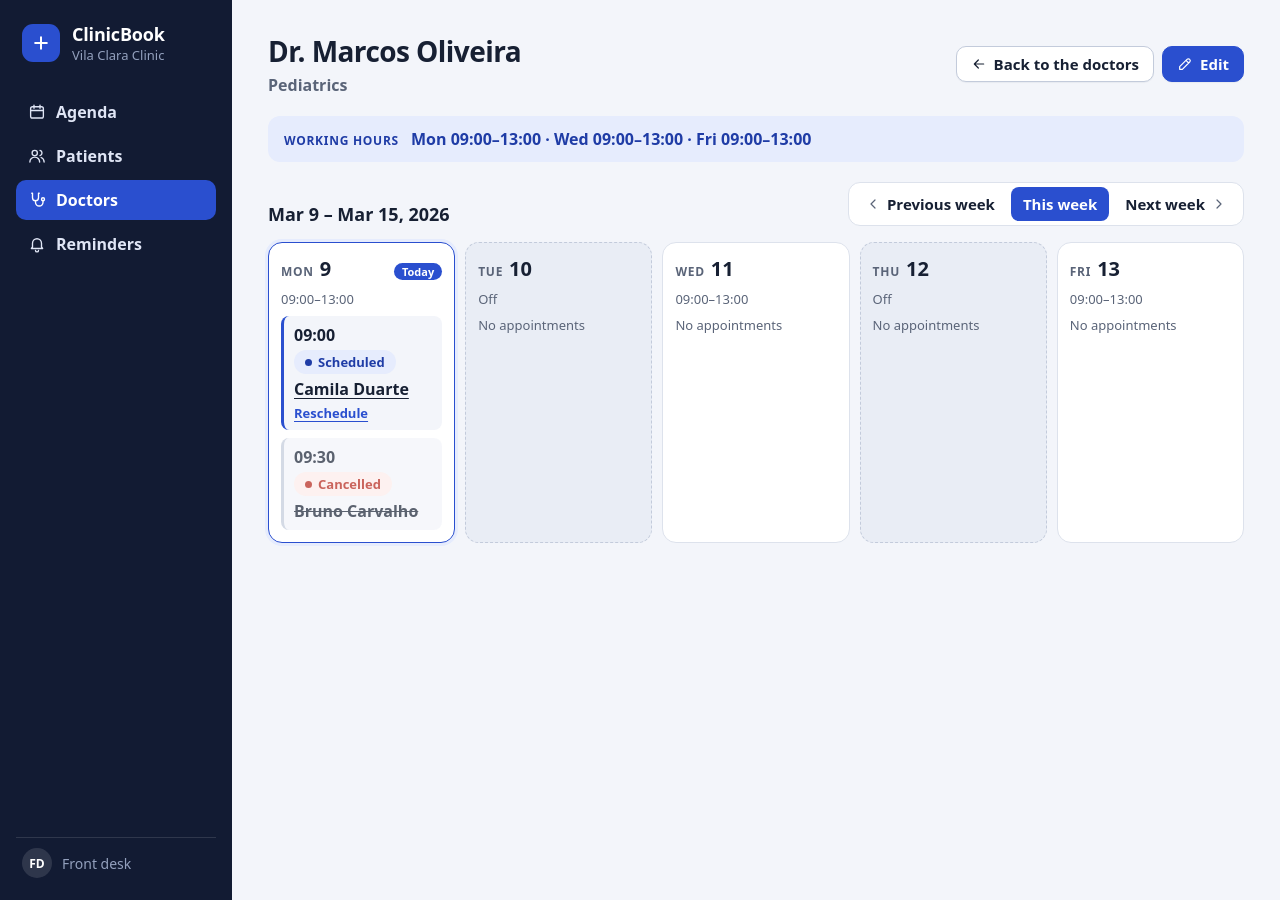
Test case: the doctors › edit the name, the specialty and the hours of a doctor, on a screen of its own
Expected: the navigation bar named "Main" is shown, [16, 92, 216, 264]
Step 1. Click the link "Edit" → (1203, 64), box [1162, 46, 1244, 82]
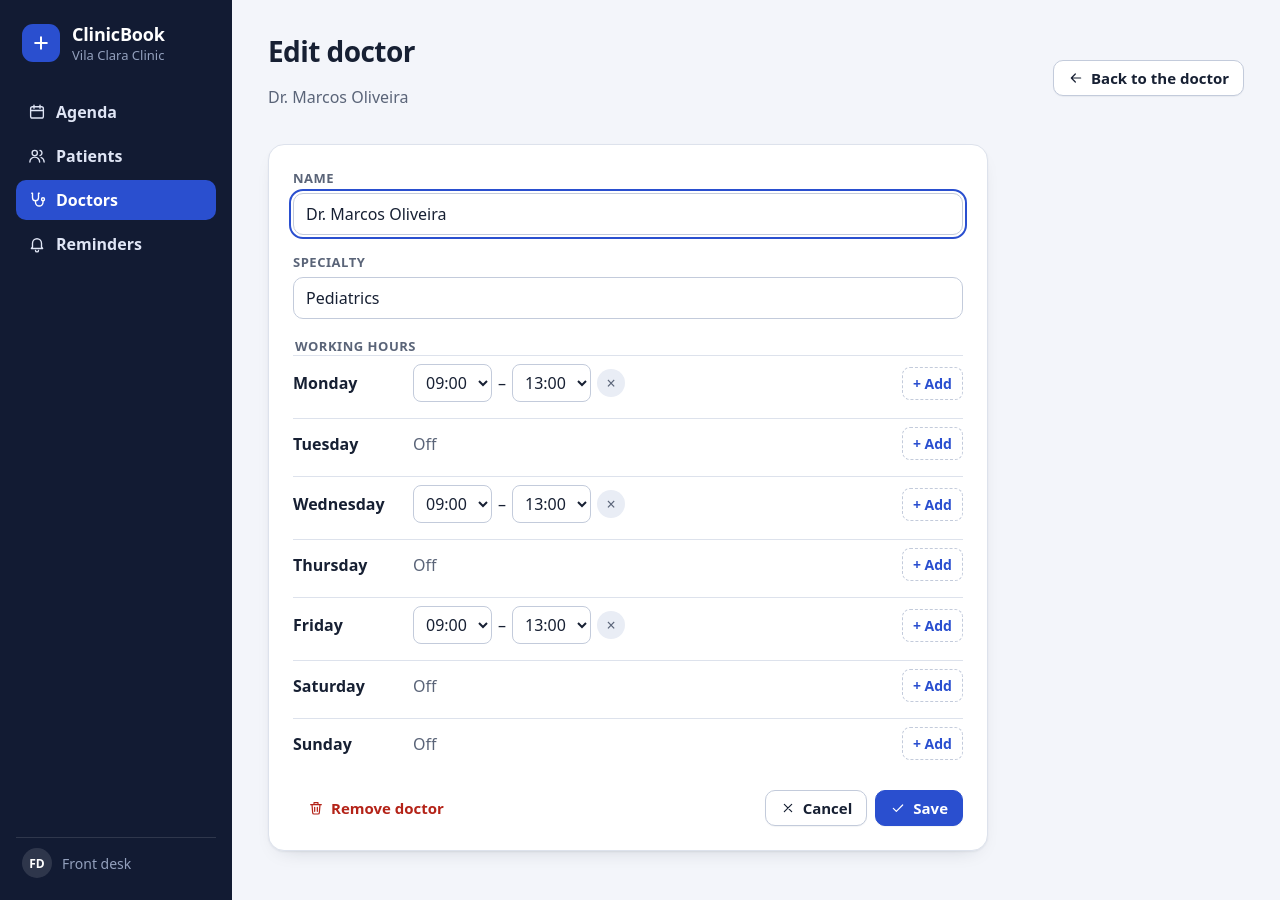
Result: the field labelled "Name" holds "Dr. Marcos Oliveira" at [293, 193, 963, 235]
Step 2. Replace the text in the field labelled "Specialty" with "Pediatrics and allergy" → (628, 298), box [293, 277, 963, 319]
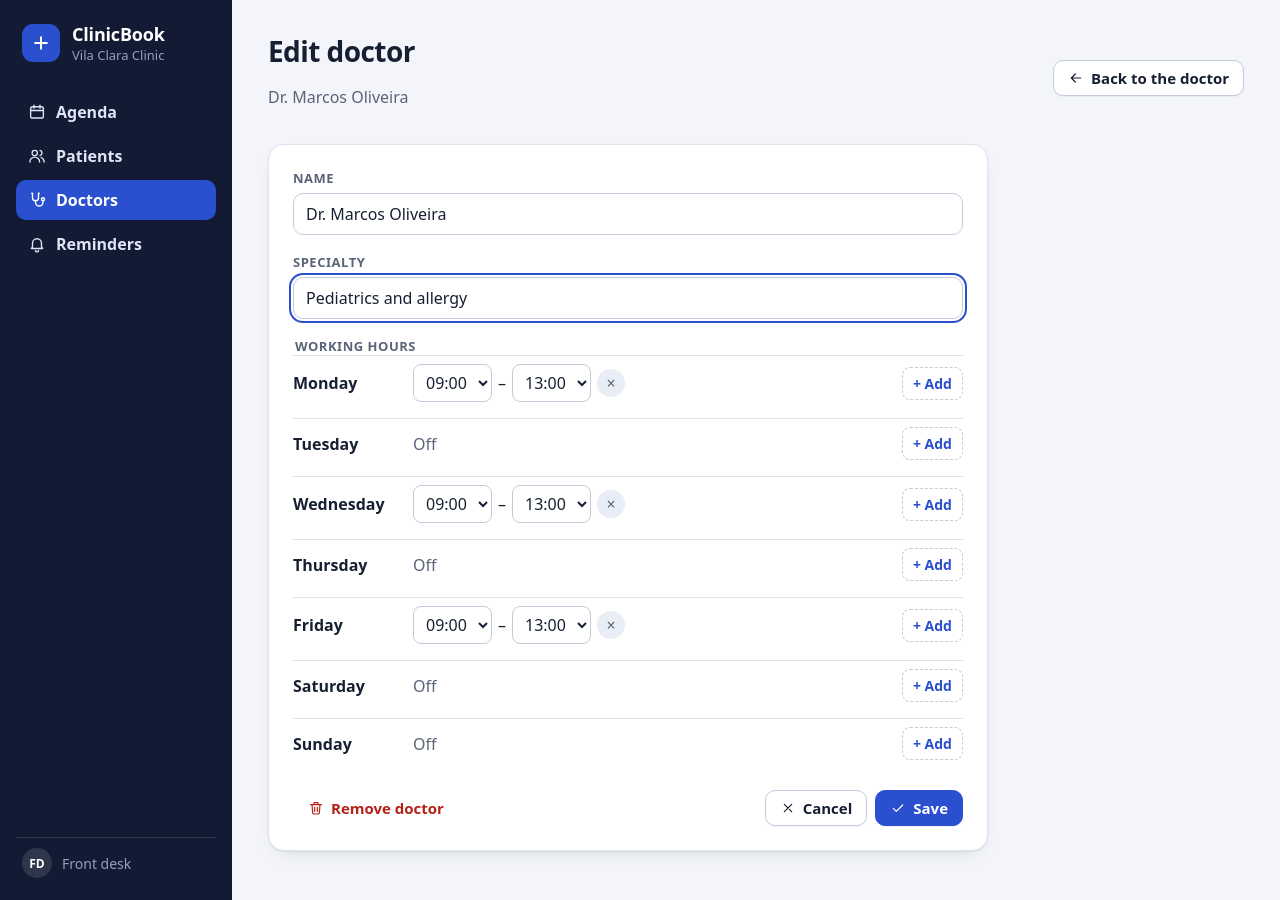
Step 3. Click the button named "Remove Friday, period 1" → (611, 625), box [597, 611, 625, 639]
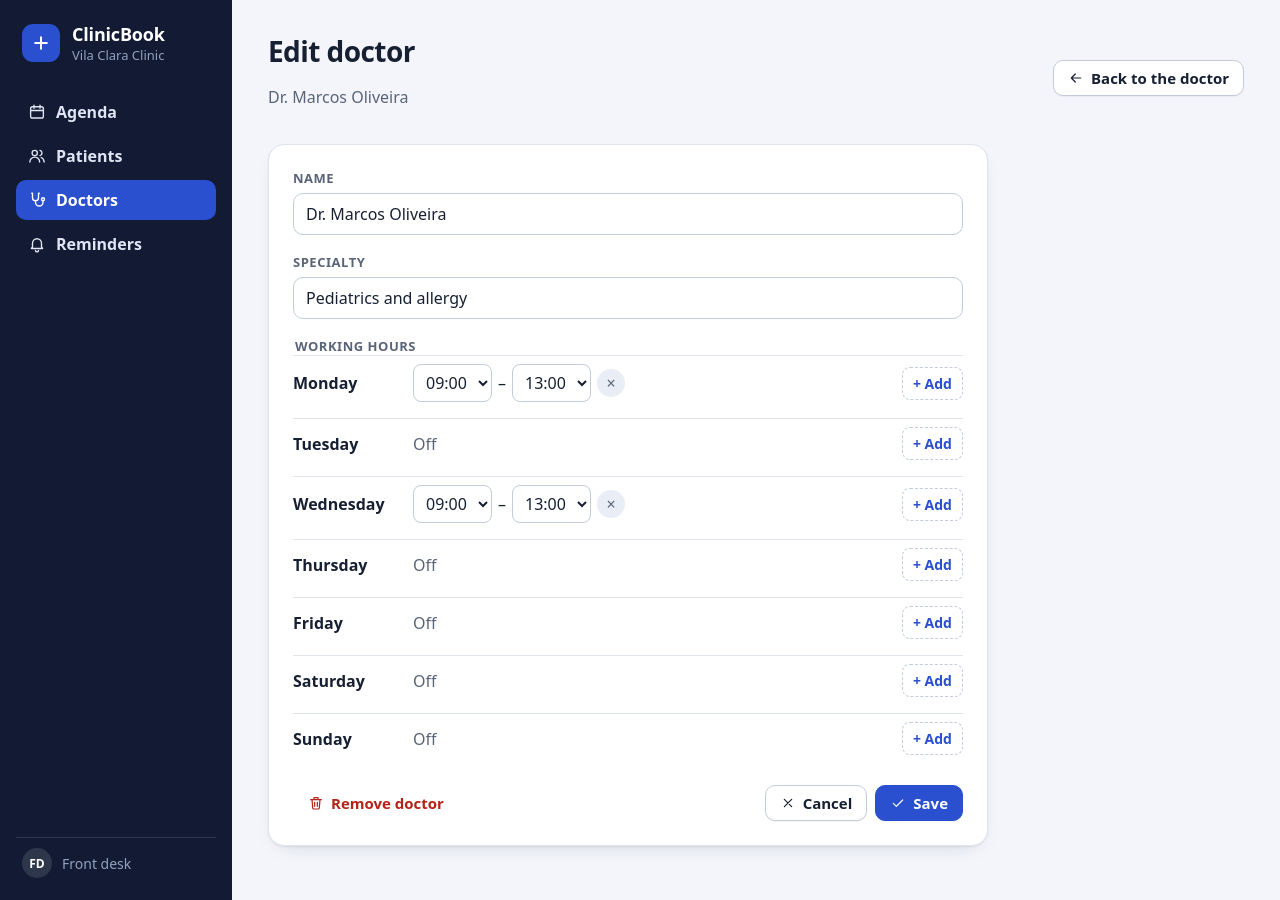
Step 4. Click the button with aria-label "Add a period on Saturday" → (932, 680), box [902, 664, 963, 697]
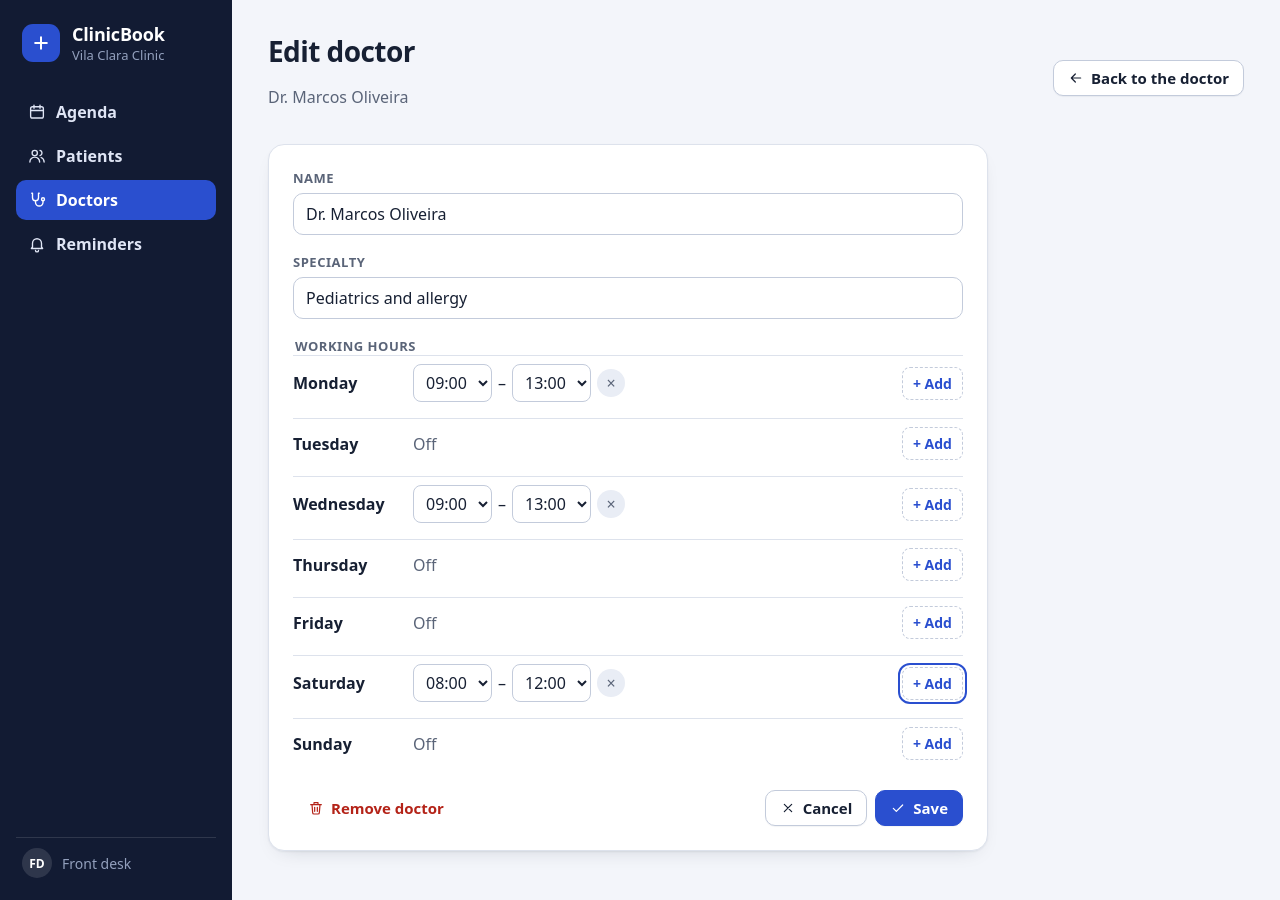
Step 5. Select "11:00" in the dropdown named "Saturday, period 1, ends at" → (552, 683), box [512, 664, 591, 702]
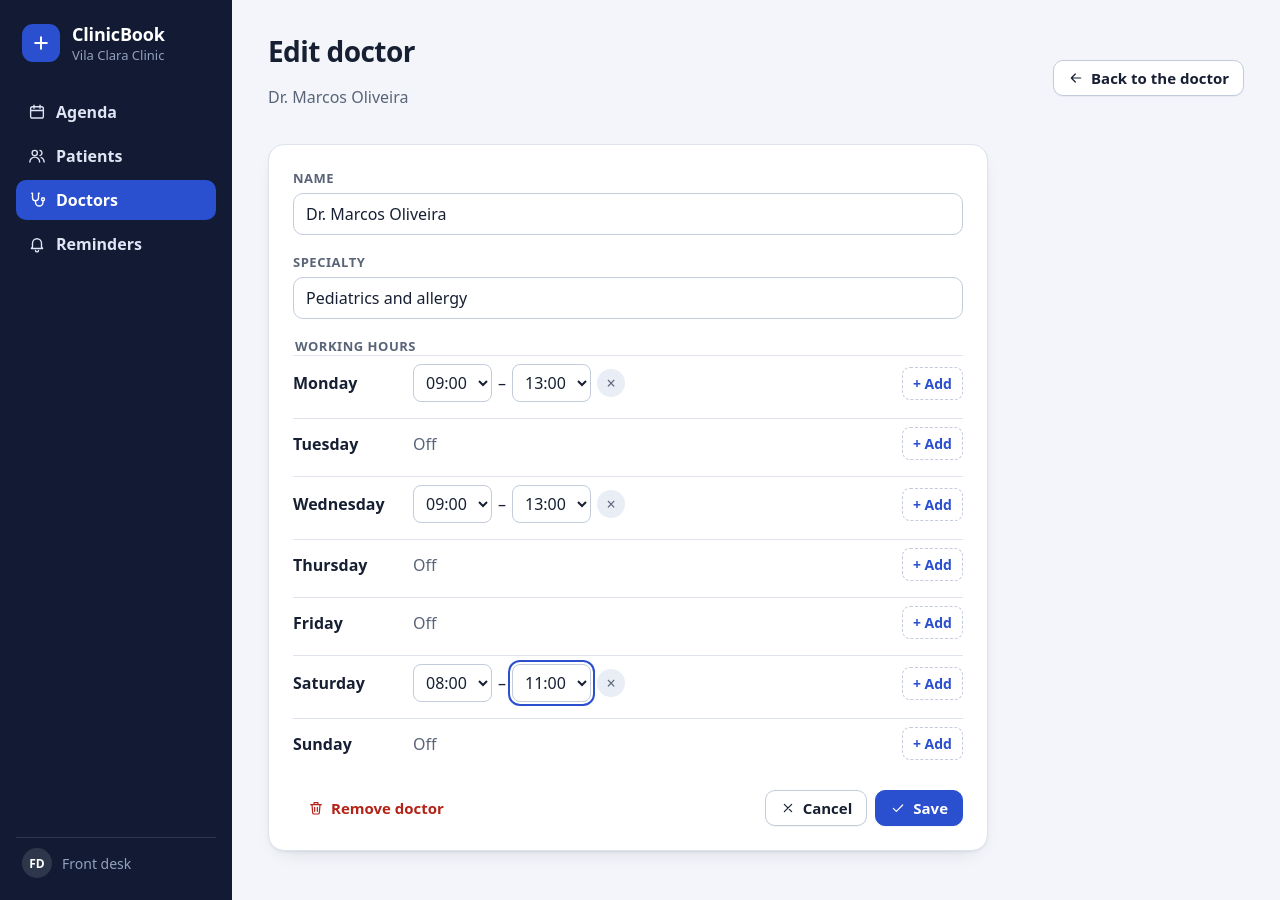
Step 6. Click the button "Save" → (919, 808), box [875, 790, 963, 826]
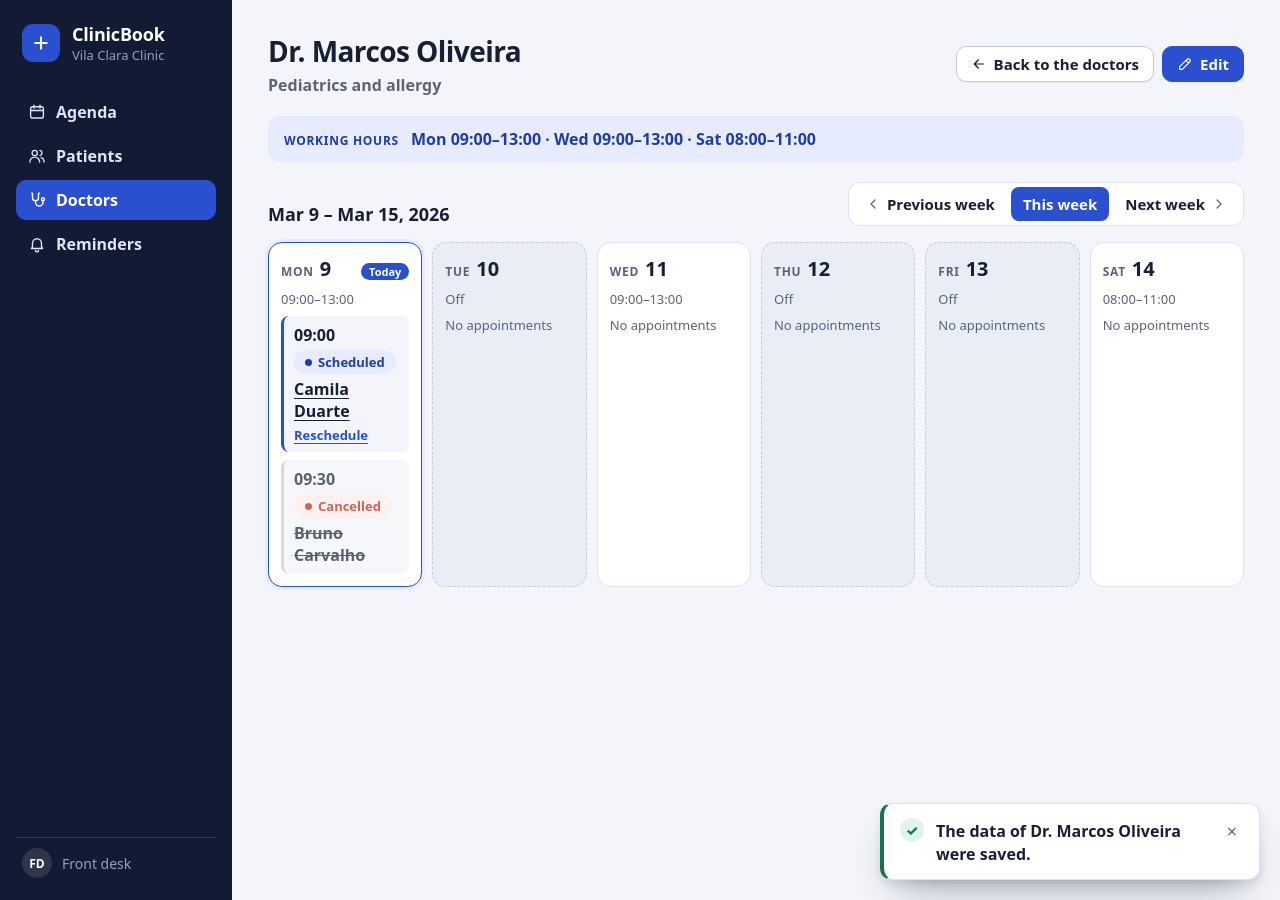
Result: the message reads "The data of Dr. Marcos Oliveira were saved." at [936, 820, 1181, 865]
Result: the text "Pediatrics and allergy" is shown at [268, 74, 441, 96]
Result: the text "Mon 09:00–13:00 · Wed 09:00–13:00 · Sat 08:00–11:00" is shown at [411, 128, 816, 150]
